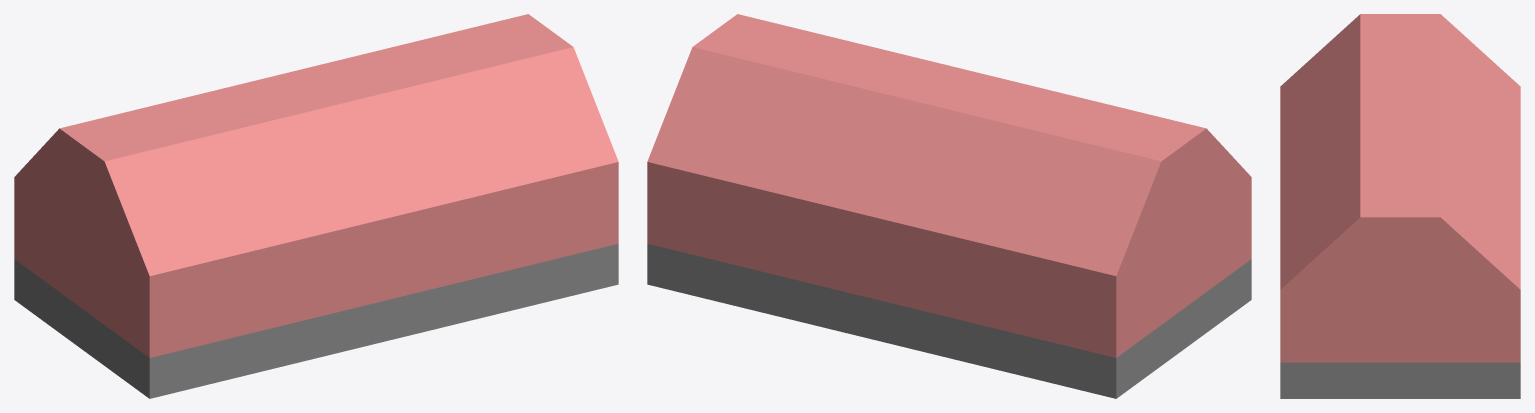
Rendered from SM_Motor_4x2x5s.gltf.
3 renders of one model, left to right at view 1: azimuth 30°, elevation 25°; view 2: azimuth 150°, elevation 25°; view 3: azimuth 270°, elevation 25°, orthographic. The views are drawn at different scales.
Visible parts, largest first — view 1: SM_Motor_4x2x5s; view 2: SM_Motor_4x2x5s; view 3: SM_Motor_4x2x5s.
Part boxes in pixels (left/top/right/bottom): SM_Motor_4x2x5s: left=14, top=14, right=618, bottom=398; SM_Motor_4x2x5s: left=647, top=14, right=1251, bottom=398; SM_Motor_4x2x5s: left=1280, top=14, right=1520, bottom=398.
Bounding box in the file's own units: 1.2 × 0.5 × 0.6.
